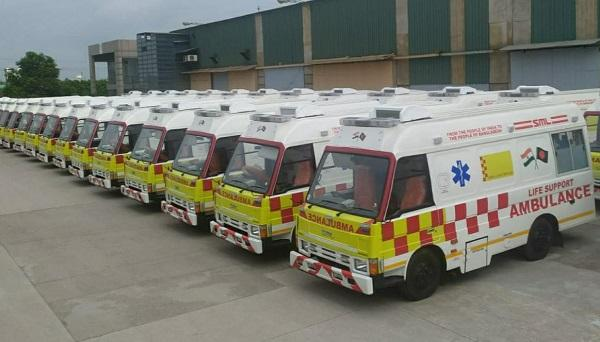Emergency-Vehicles: (307, 107, 589, 287)
